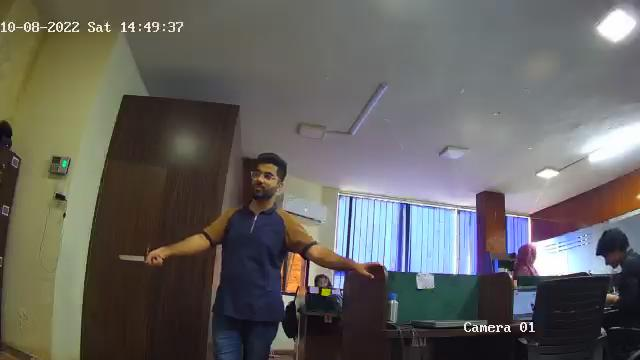knives: (117, 252, 163, 266)
